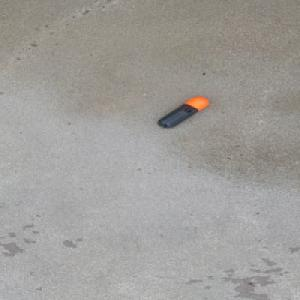PlasticPart: (156, 96, 209, 129)
